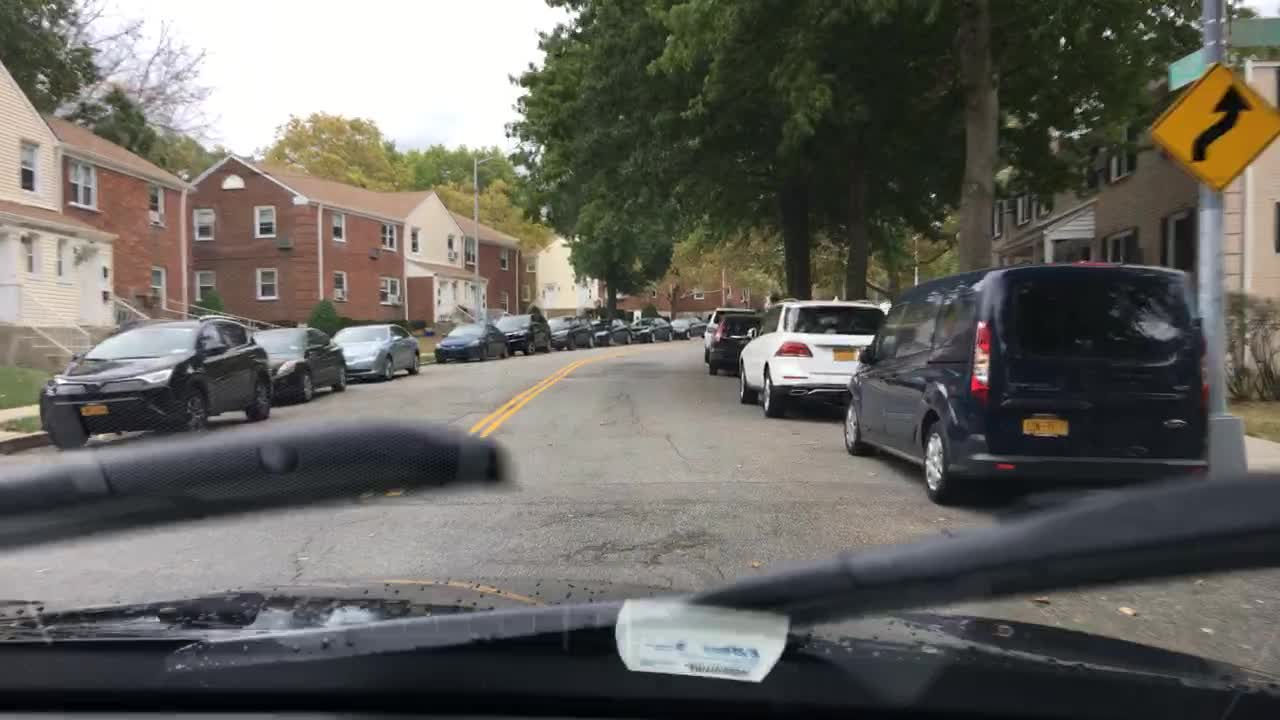car: (840, 261, 1211, 507), (38, 313, 273, 450), (735, 296, 887, 417), (252, 325, 349, 406), (331, 323, 421, 383), (706, 312, 763, 377), (433, 321, 510, 364), (702, 306, 754, 366), (493, 310, 553, 355), (547, 314, 597, 350), (588, 315, 633, 345), (630, 314, 673, 344), (667, 313, 708, 341)
traffic sign: (1144, 65, 1279, 192), (1226, 16, 1279, 49), (1167, 46, 1204, 90)
